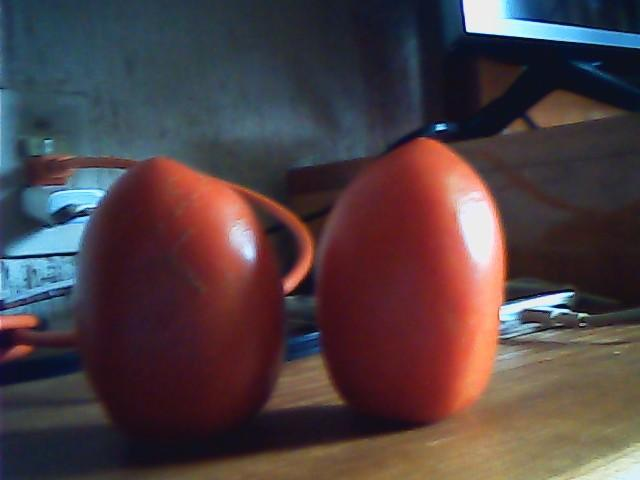maduro: (68, 156, 288, 448), (313, 138, 503, 425)
